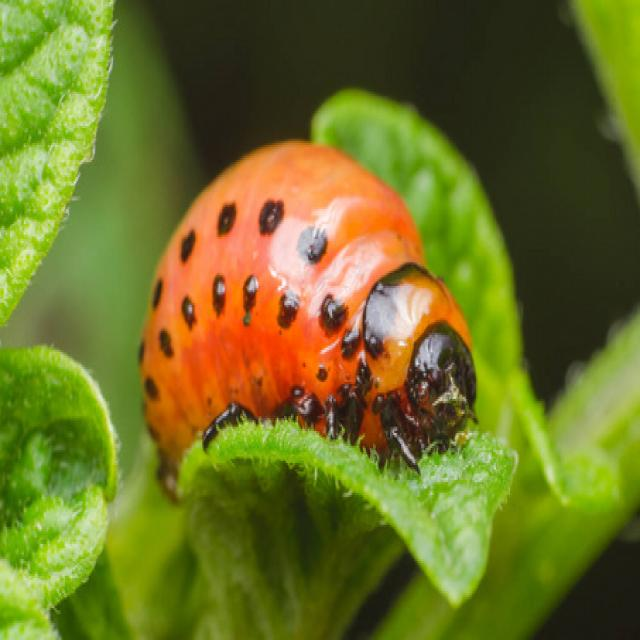ShuCaiHuaBanChong-Larva-: (108, 127, 496, 531)
